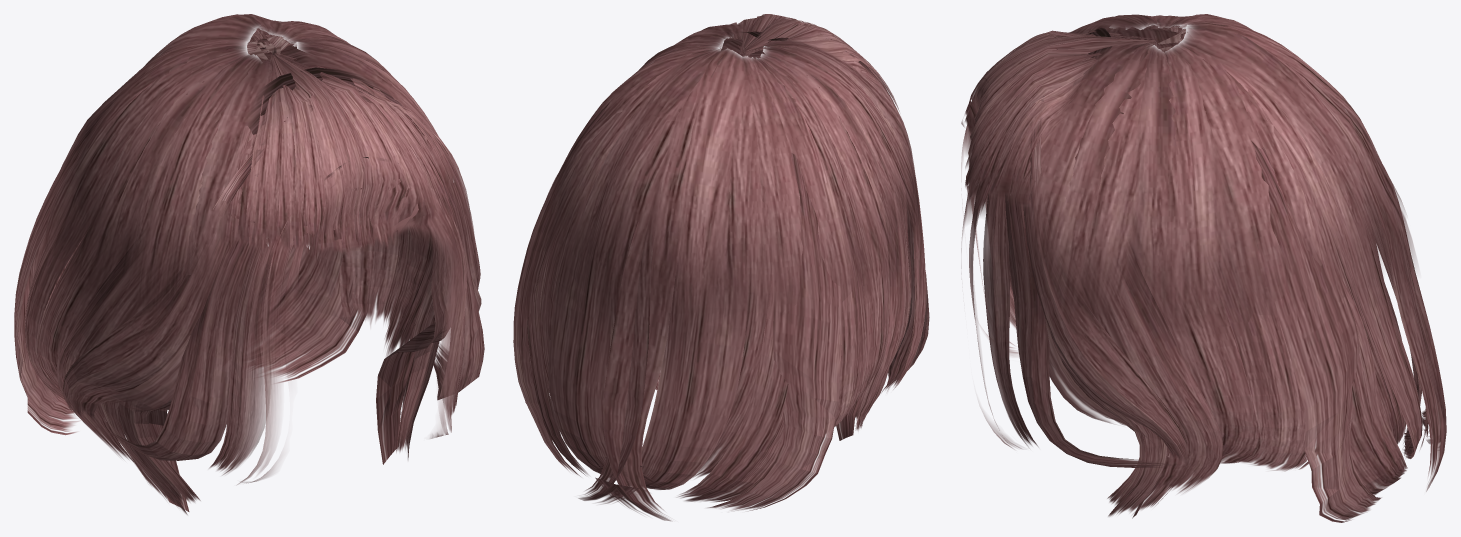
The model's file is mh_short_daisy.glb.
The picture shows the model from 3 angles, left to right: view 1: azimuth 30°, elevation 25°; view 2: azimuth 150°, elevation 25°; view 3: azimuth 270°, elevation 25°; orthographic projection. The views are drawn at different scales.
Parts seen in each view (by area): view 1: hair, locks, fringe; view 2: hair, locks, fringe; view 3: hair, locks, fringe.
Boxes of the visible parts, x1=… form: hair: x1=14, y1=28, x2=484, y2=514; locks: x1=43, y1=14, x2=474, y2=308; fringe: x1=216, y1=47, x2=459, y2=263; hair: x1=513, y1=31, x2=929, y2=520; locks: x1=542, y1=24, x2=919, y2=331; fringe: x1=726, y1=14, x2=899, y2=111; hair: x1=961, y1=25, x2=1446, y2=522; locks: x1=1028, y1=14, x2=1416, y2=334; fringe: x1=961, y1=30, x2=1157, y2=221.
Size of the model in its own units: 24.52 by 26.23 by 25.72.
2 materials, 2 textured.
